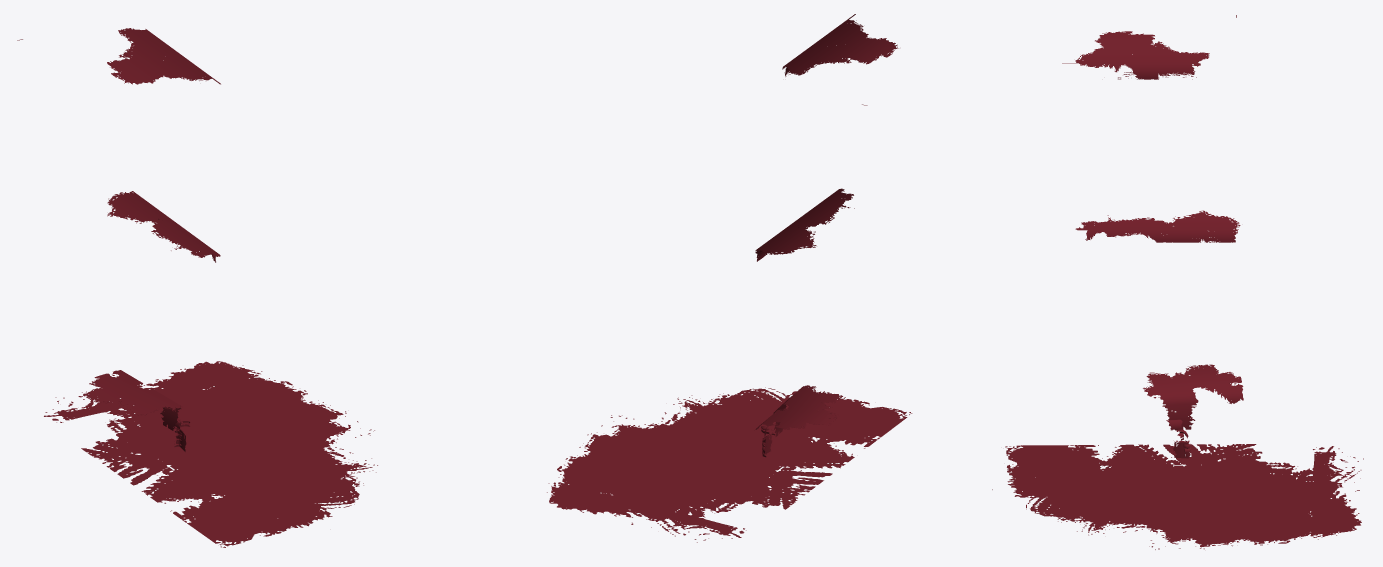
File: paintLeakNew.fbx
The picture shows the model from 3 angles, left to right: view 1: azimuth 30°, elevation 25°; view 2: azimuth 150°, elevation 25°; view 3: azimuth 270°, elevation 25°; orthographic projection. The views are drawn at different scales.
Parts seen in each view (by area): view 1: paintLeak_part1, paintLeak_part2; view 2: paintLeak_part1, paintLeak_part2; view 3: paintLeak_part1, paintLeak_part2.
Boxes of the visible parts, x1,y1,x2,y2 form: paintLeak_part1: (17,28,377,547); paintLeak_part2: (83,370,189,451); paintLeak_part1: (547,14,912,542); paintLeak_part2: (755,385,845,457); paintLeak_part1: (992,15,1363,549); paintLeak_part2: (1143,364,1243,458).
Bounding box in the file's own units: 77.78 × 100 × 86.89.
1 material, 1 textured.
